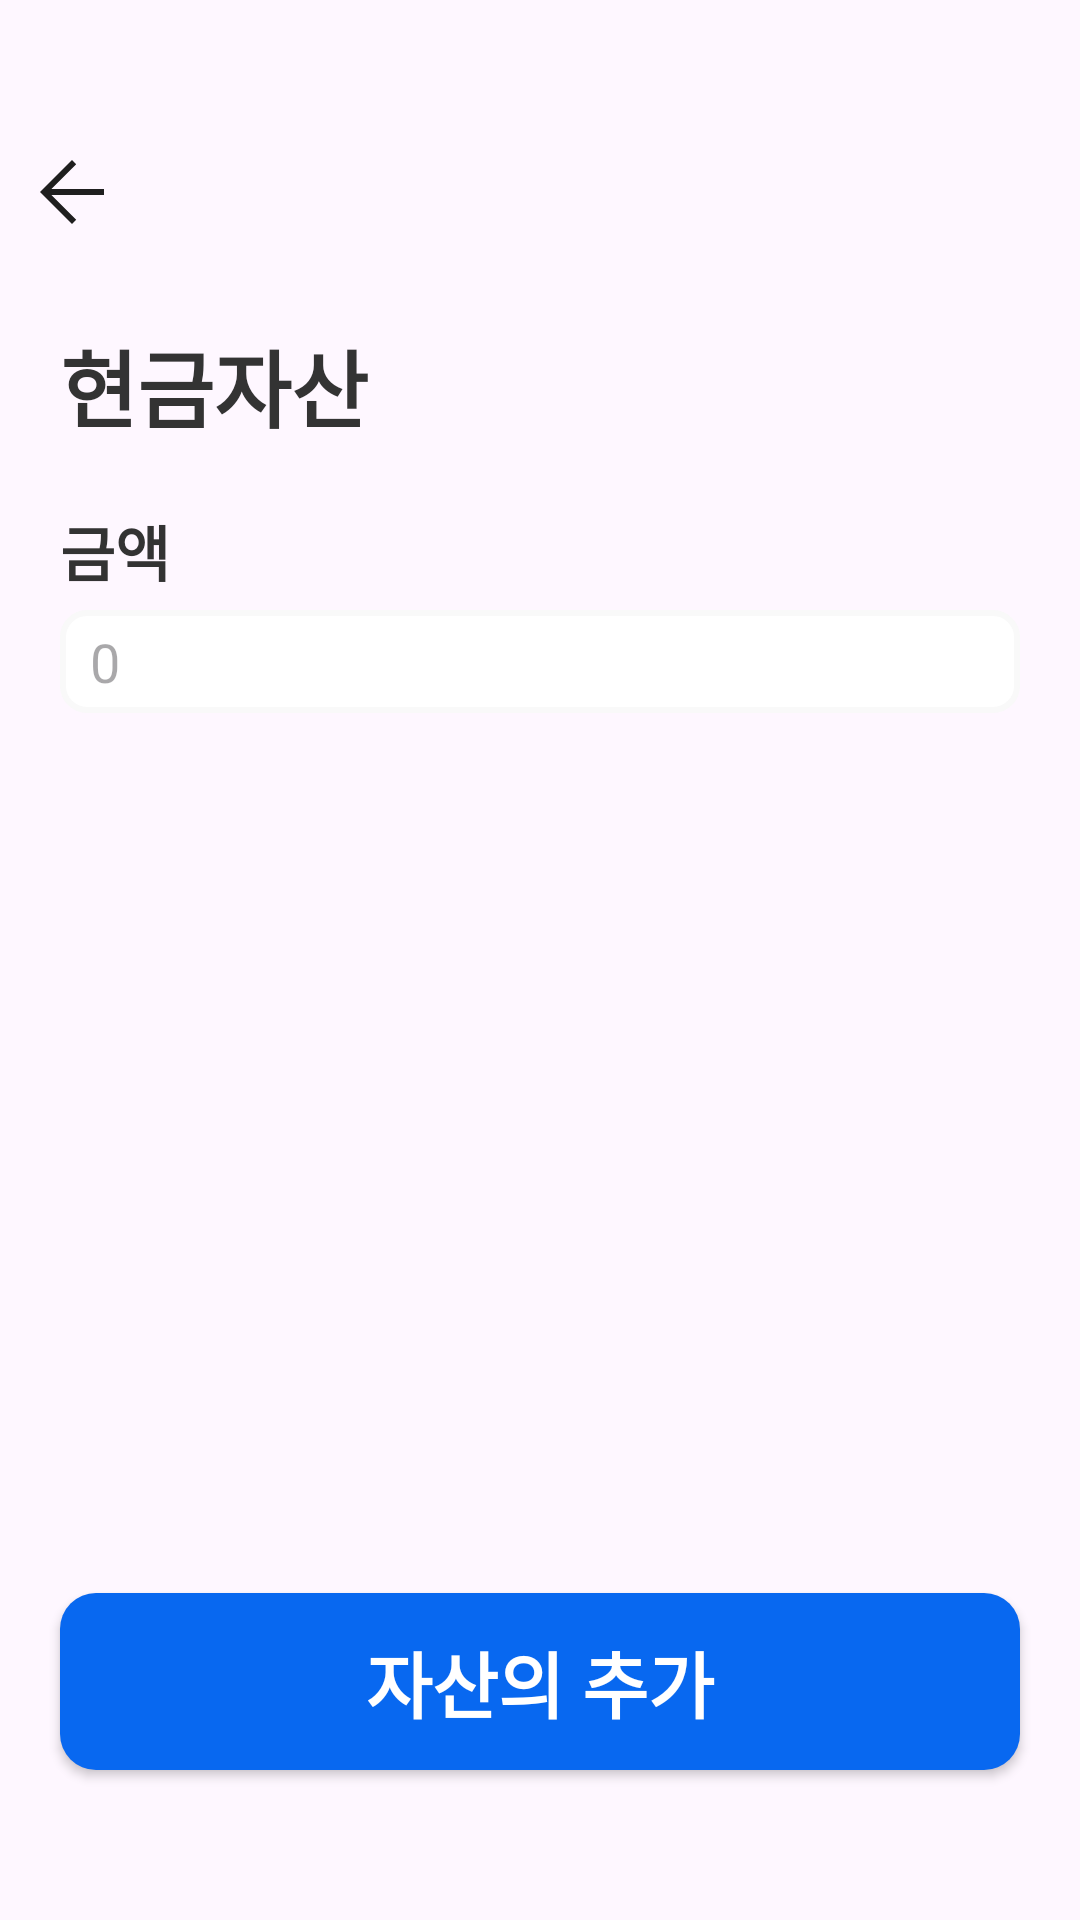

Icon click points for this 1080×1920 phone screenshot, format point (x, y):
back: point (72, 192)
